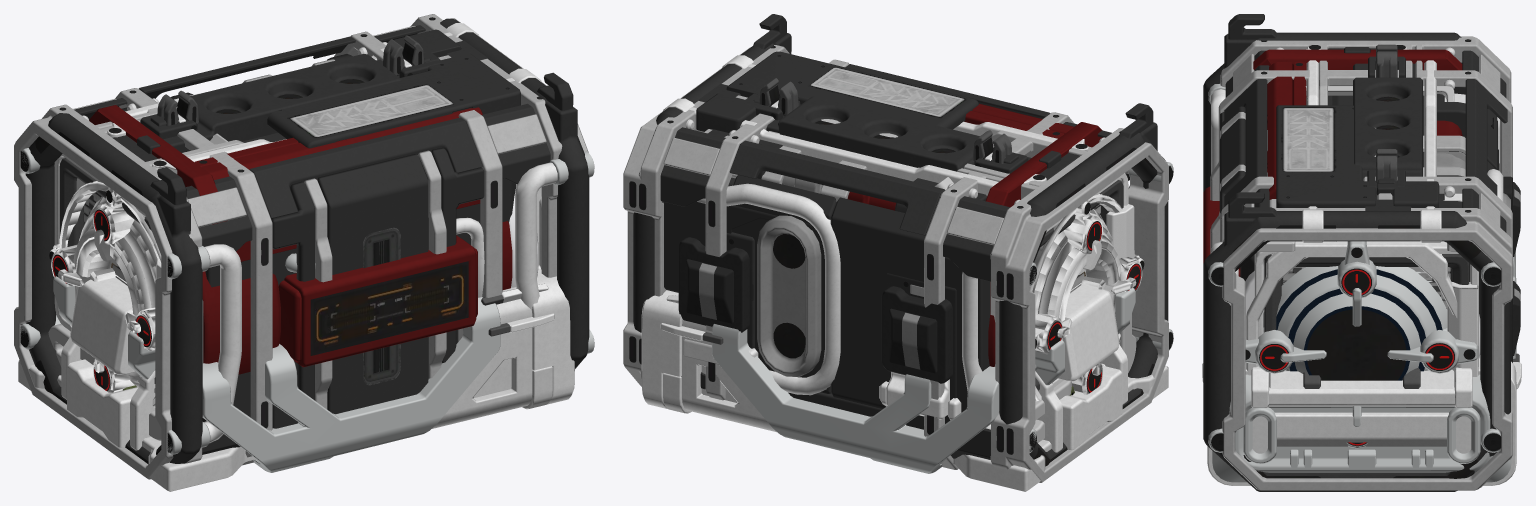
File: bauteile.glb
3 views of the same model, side by side, from view 1: azimuth 30°, elevation 25°; view 2: azimuth 150°, elevation 25°; view 3: azimuth 270°, elevation 25° (orthographic). The views are drawn at different scales.
Visible parts, largest first — view 1: prop_bauteile_powr_aegs_s03_pl03, prop_bauteile_qdrv_arcc_s03_pl04, prop_bauteile_cool_aegs_s03_pl01; view 2: prop_bauteile_powr_aegs_s03_pl03, prop_bauteile_qdrv_arcc_s03_pl04, prop_bauteile_cool_aegs_s03_pl01; view 3: prop_bauteile_qdrv_arcc_s03_pl04, prop_bauteile_powr_aegs_s03_pl03, prop_bauteile_cool_aegs_s03_pl01.
Boxes of the visible parts, x1=… form: prop_bauteile_powr_aegs_s03_pl03: x1=14, y1=14, x2=588, y2=479; prop_bauteile_qdrv_arcc_s03_pl04: x1=20, y1=18, x2=594, y2=464; prop_bauteile_cool_aegs_s03_pl01: x1=18, y1=265, x2=574, y2=491; prop_bauteile_powr_aegs_s03_pl03: x1=623, y1=45, x2=1168, y2=482; prop_bauteile_qdrv_arcc_s03_pl04: x1=633, y1=14, x2=1173, y2=466; prop_bauteile_cool_aegs_s03_pl01: x1=641, y1=284, x2=1168, y2=491; prop_bauteile_qdrv_arcc_s03_pl04: x1=1203, y1=14, x2=1520, y2=491; prop_bauteile_powr_aegs_s03_pl03: x1=1210, y1=36, x2=1512, y2=490; prop_bauteile_cool_aegs_s03_pl01: x1=1202, y1=250, x2=1521, y2=485.
Bounding box in the file's own units: 3.01 × 2.16 × 2.08.
Materials: 137 (108 with a texture image).
